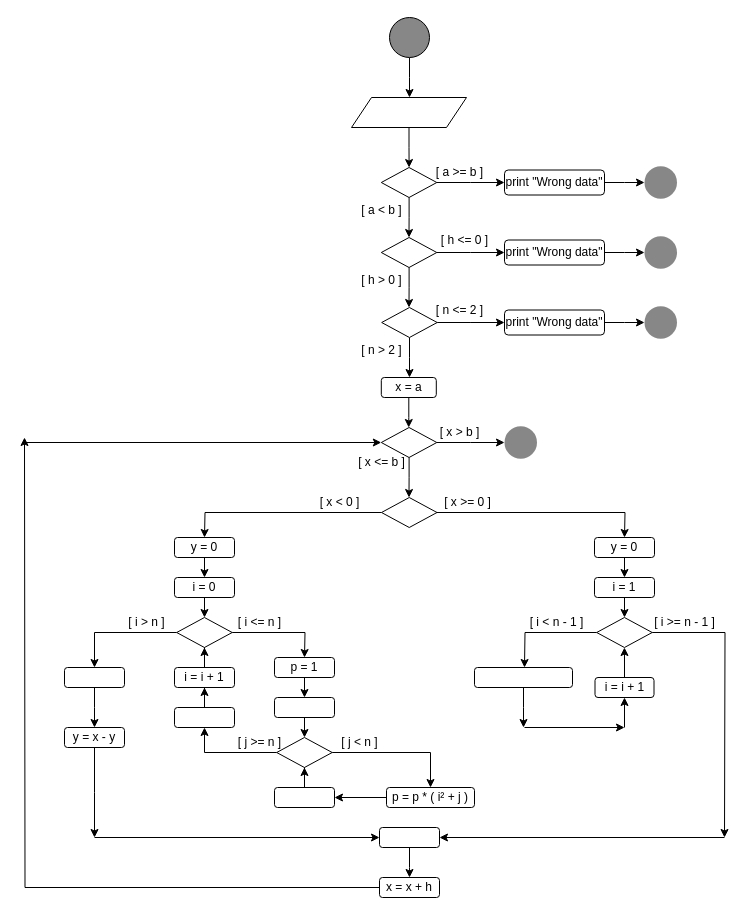
Some shapes in this 751 by 915 pixel diagram are drawn without their labels. Here are the shapes that lost their labels. From the top down, the centre of each, then its label:
(x=408, y=112): Read a, b, h ,n
(x=94, y=677): y = y - 1
(x=523, y=677): y = y + (i - x)³
(x=204, y=717): y = y + p
(x=304, y=707): j = i
(x=304, y=797): j = j + 1
(x=409, y=837): print x, y
